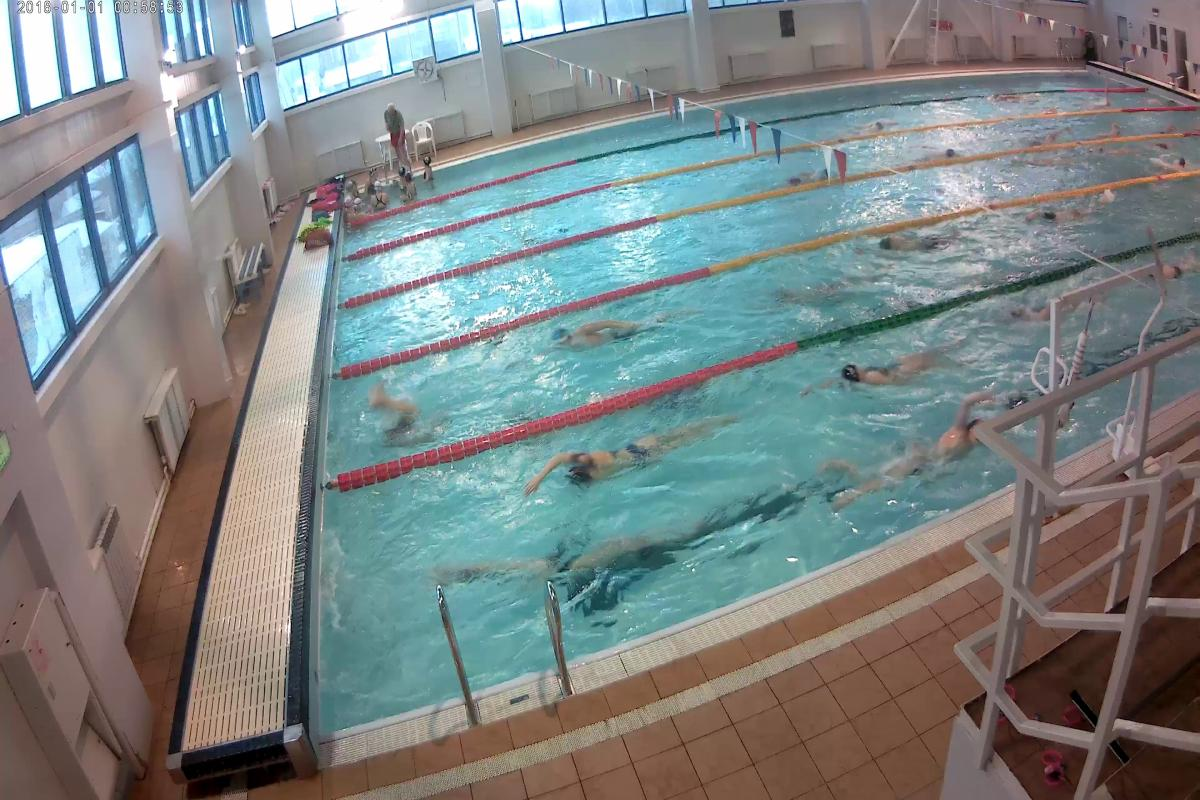swimmer: (547, 423, 719, 481), (457, 532, 686, 567), (534, 304, 693, 350), (871, 423, 977, 490), (824, 351, 978, 388), (347, 384, 446, 436), (872, 230, 980, 260), (1032, 196, 1103, 222)
